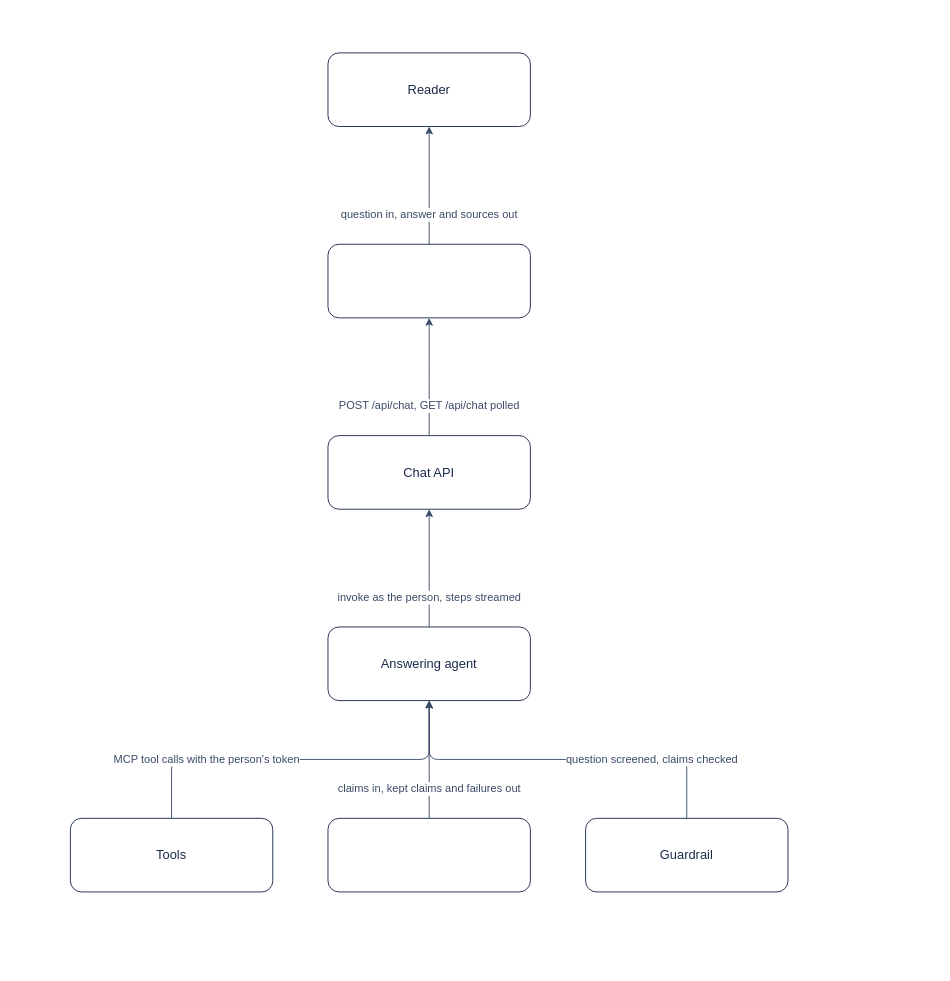
Some shapes in this 950 by 981 pixel diagram are drawn without their labels. The centre of each missing label's shape, as x and y in pixels:
Chat page: the point at 428,280
Grounding checks: the point at 428,854
